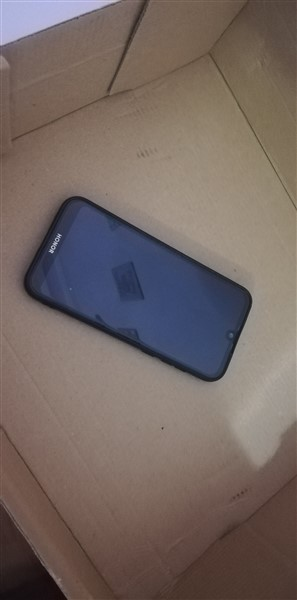telefon: (18, 193, 269, 389)
